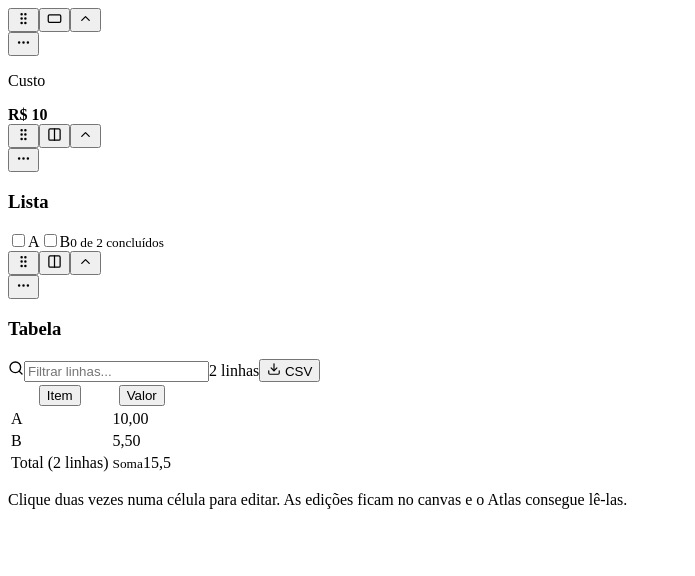
Scenario: moves blocks from the menu and from the keyboard handle
Click the 2nd button named "Mais ações" at [24, 160], box [8, 148, 39, 172]
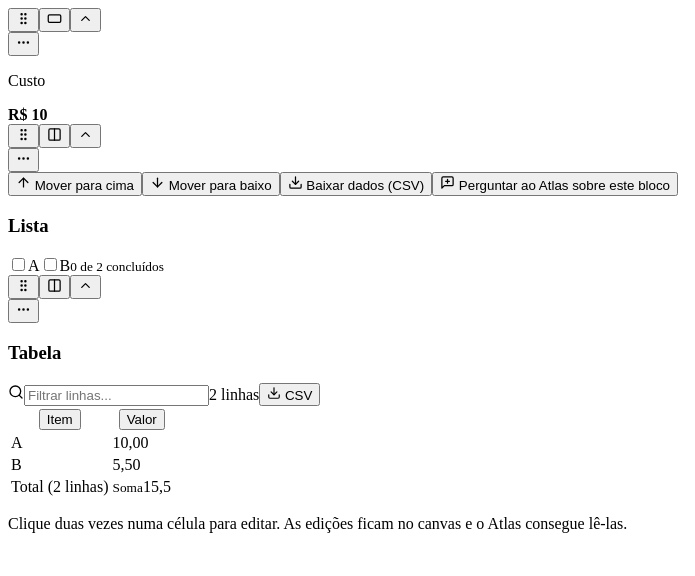
Click the menu item "Mover para baixo" at [211, 184], box [142, 172, 280, 196]
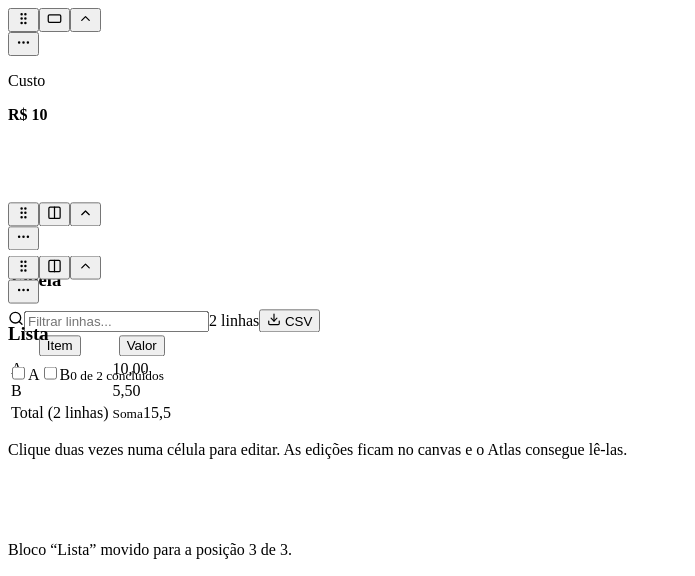
Press ArrowDown in the button named "Mover bloco Custo", box [8, 8, 39, 32]
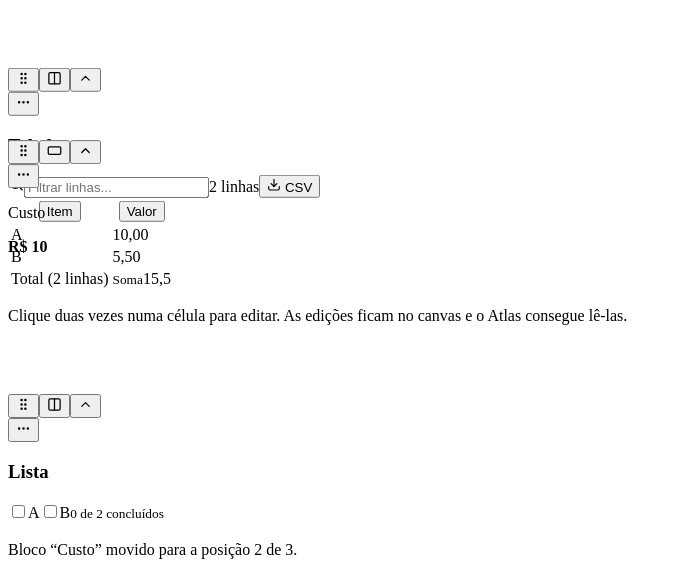
Check: the text with class "canvas-live" shows "posição 2 de 3", box [8, 541, 297, 558]
